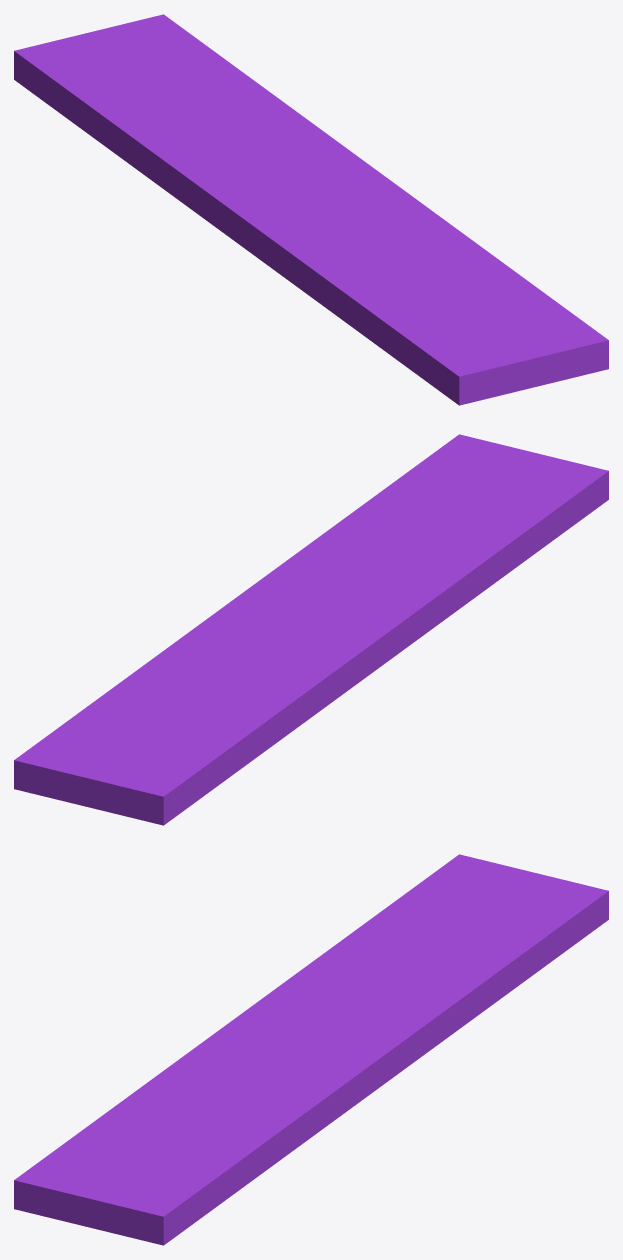
Rendered from StairsStep_83_chunks.fbx.
3 views of the same model, one above another, from view 1: azimuth 30°, elevation 25°; view 2: azimuth 150°, elevation 25°; view 3: azimuth 330°, elevation 25° (orthographic).
Visible parts, largest first — view 1: StairsStep_83_0, StairsStep_83_3, StairsStep_83_2, StairsStep_83_1; view 2: StairsStep_83_0, StairsStep_83_3, StairsStep_83_1, StairsStep_83_2; view 3: StairsStep_83_0, StairsStep_83_3, StairsStep_83_2, StairsStep_83_1.
Part boxes in pixels (x1,y1,x2,y2): StairsStep_83_0: (227,198,608,405); StairsStep_83_3: (14,14,323,220); StairsStep_83_2: (321,132,484,249); StairsStep_83_1: (14,60,232,239); StairsStep_83_0: (313,434,608,665); StairsStep_83_3: (14,610,381,805); StairsStep_83_1: (14,654,381,825); StairsStep_83_2: (174,525,335,642); StairsStep_83_0: (14,1014,310,1245); StairsStep_83_3: (241,854,608,1040); StairsStep_83_2: (287,1008,457,1154); StairsStep_83_1: (449,902,608,1036).
Size of the model in its own units: 157 by 28.98 by 810.
